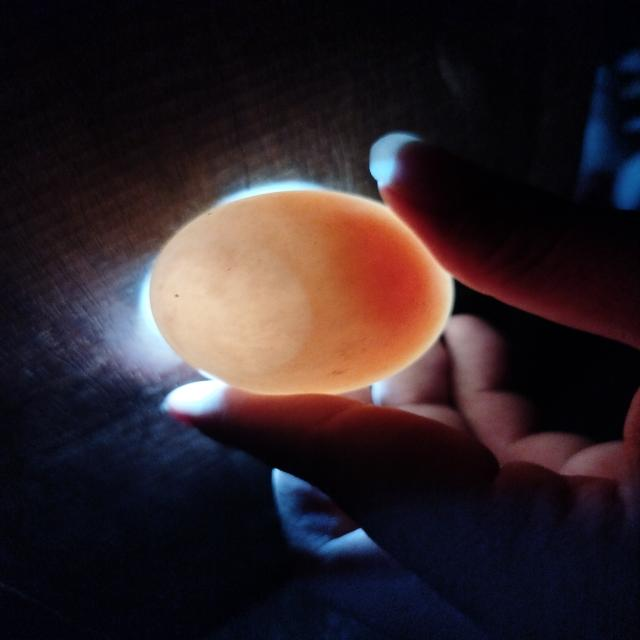Camara de Ar: (152, 237, 309, 375)
Gema Quebrada: (321, 211, 433, 334)
